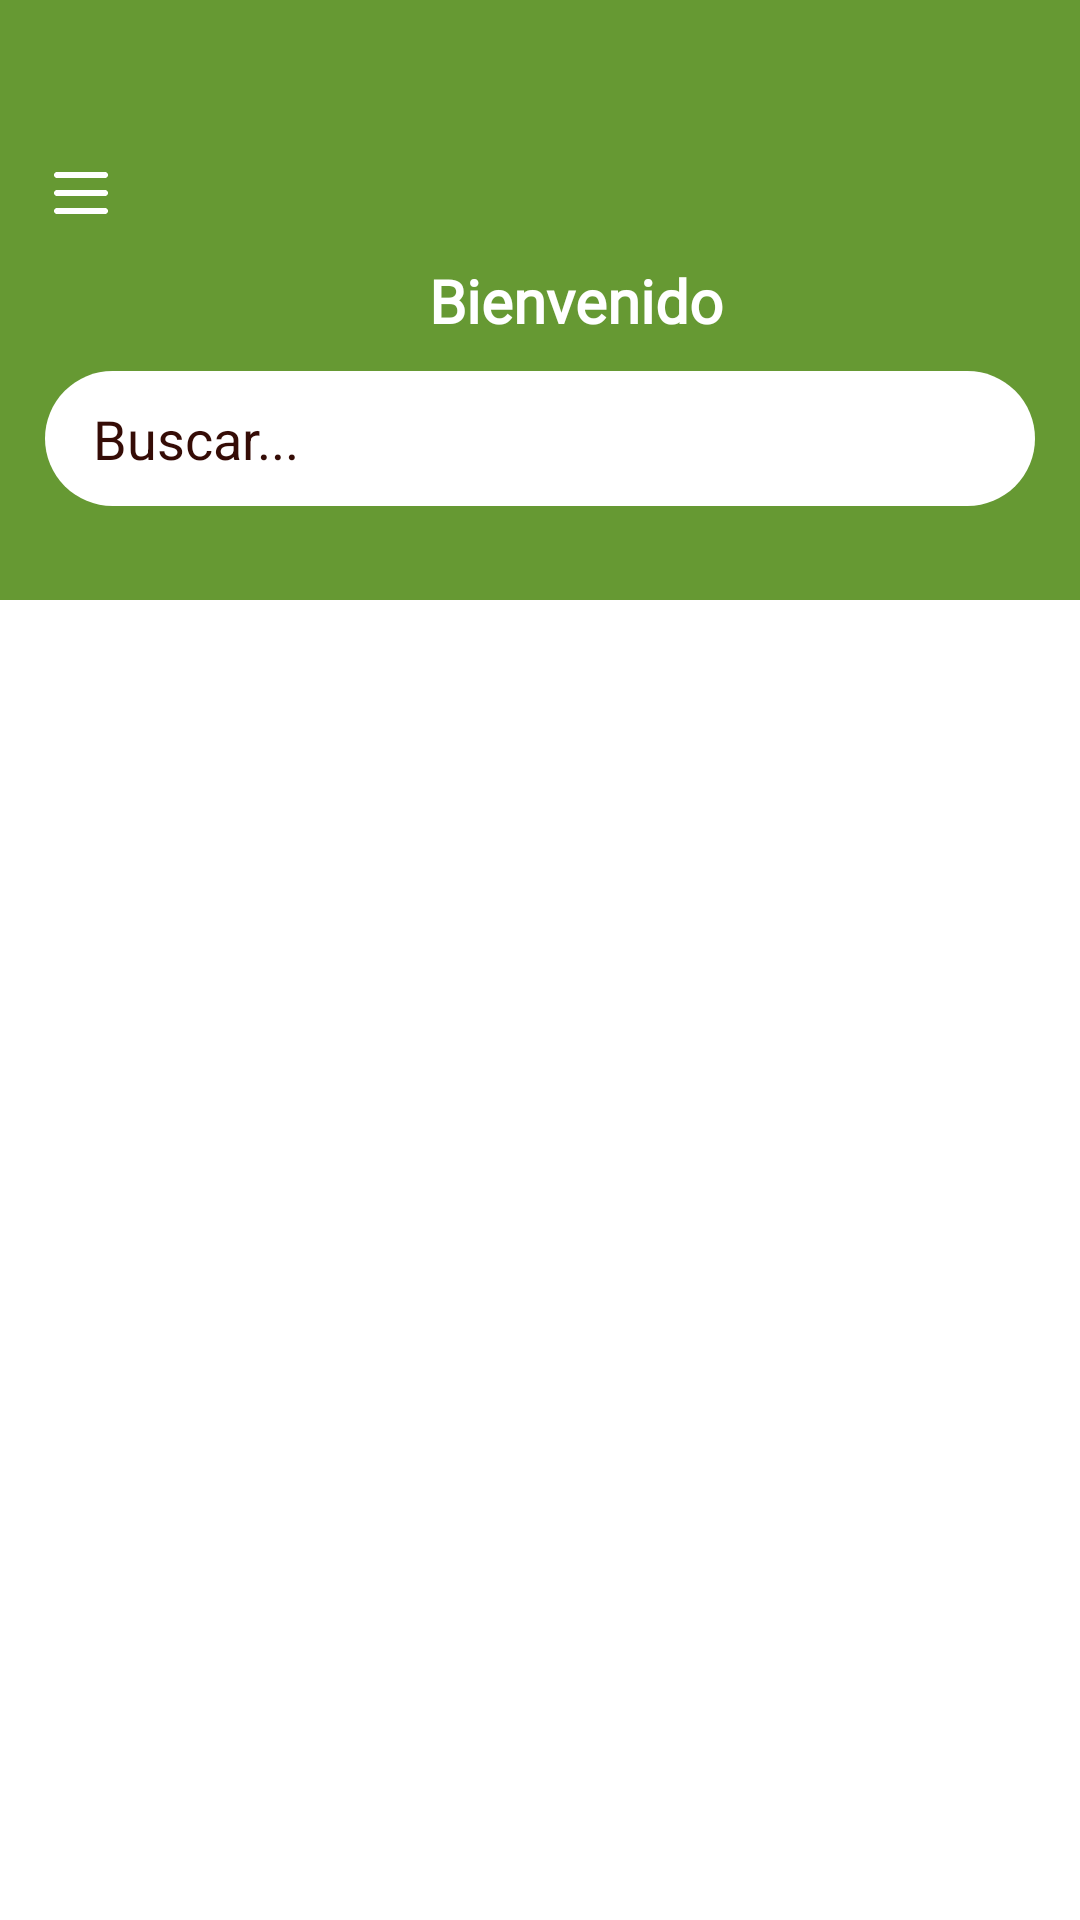

Icon bounding boxes for this 1080*1920 phone screenshot, format (x1, y1, x2, y2):
menu: (54, 172, 108, 214)
